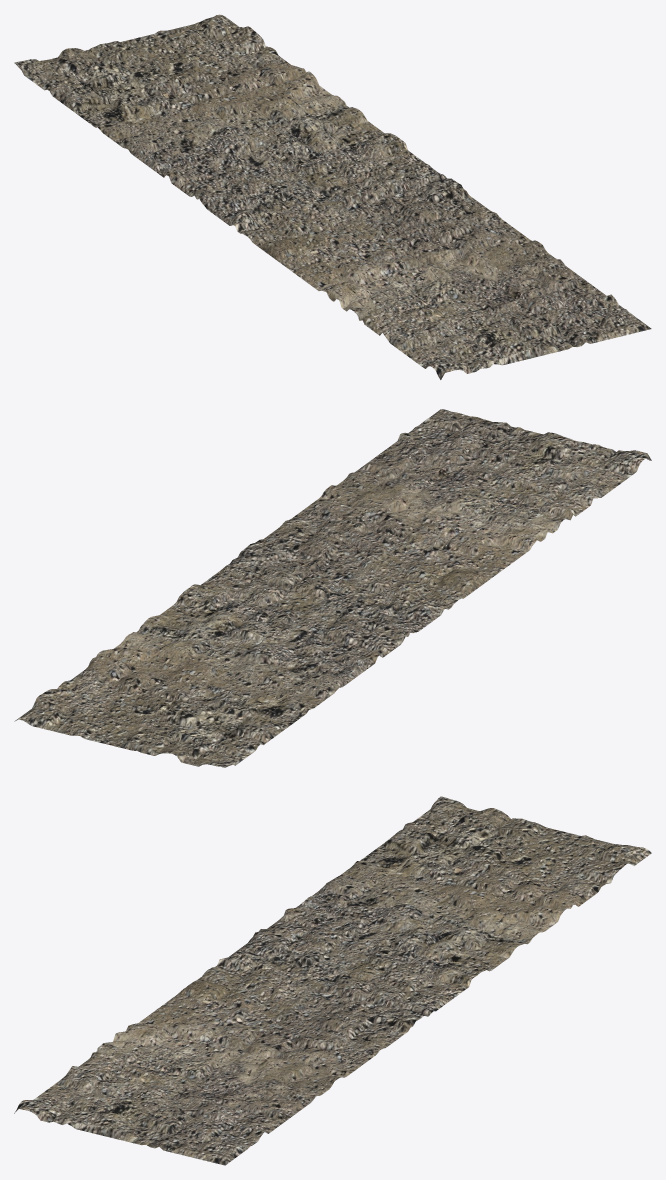
File: Path.obj
3 views of the same model, one above another, from view 1: azimuth 30°, elevation 25°; view 2: azimuth 150°, elevation 25°; view 3: azimuth 330°, elevation 25° (orthographic).
Parts seen in each view (by area): view 1: target; view 2: target; view 3: target.
Boxes of the visible parts, x1,y1,x2,y2 form: target: (14, 14, 651, 379); target: (14, 409, 651, 767); target: (14, 796, 651, 1165).
Size of the model in its own units: 12 by 0.5214 by 42.
1 material, 1 textured.
